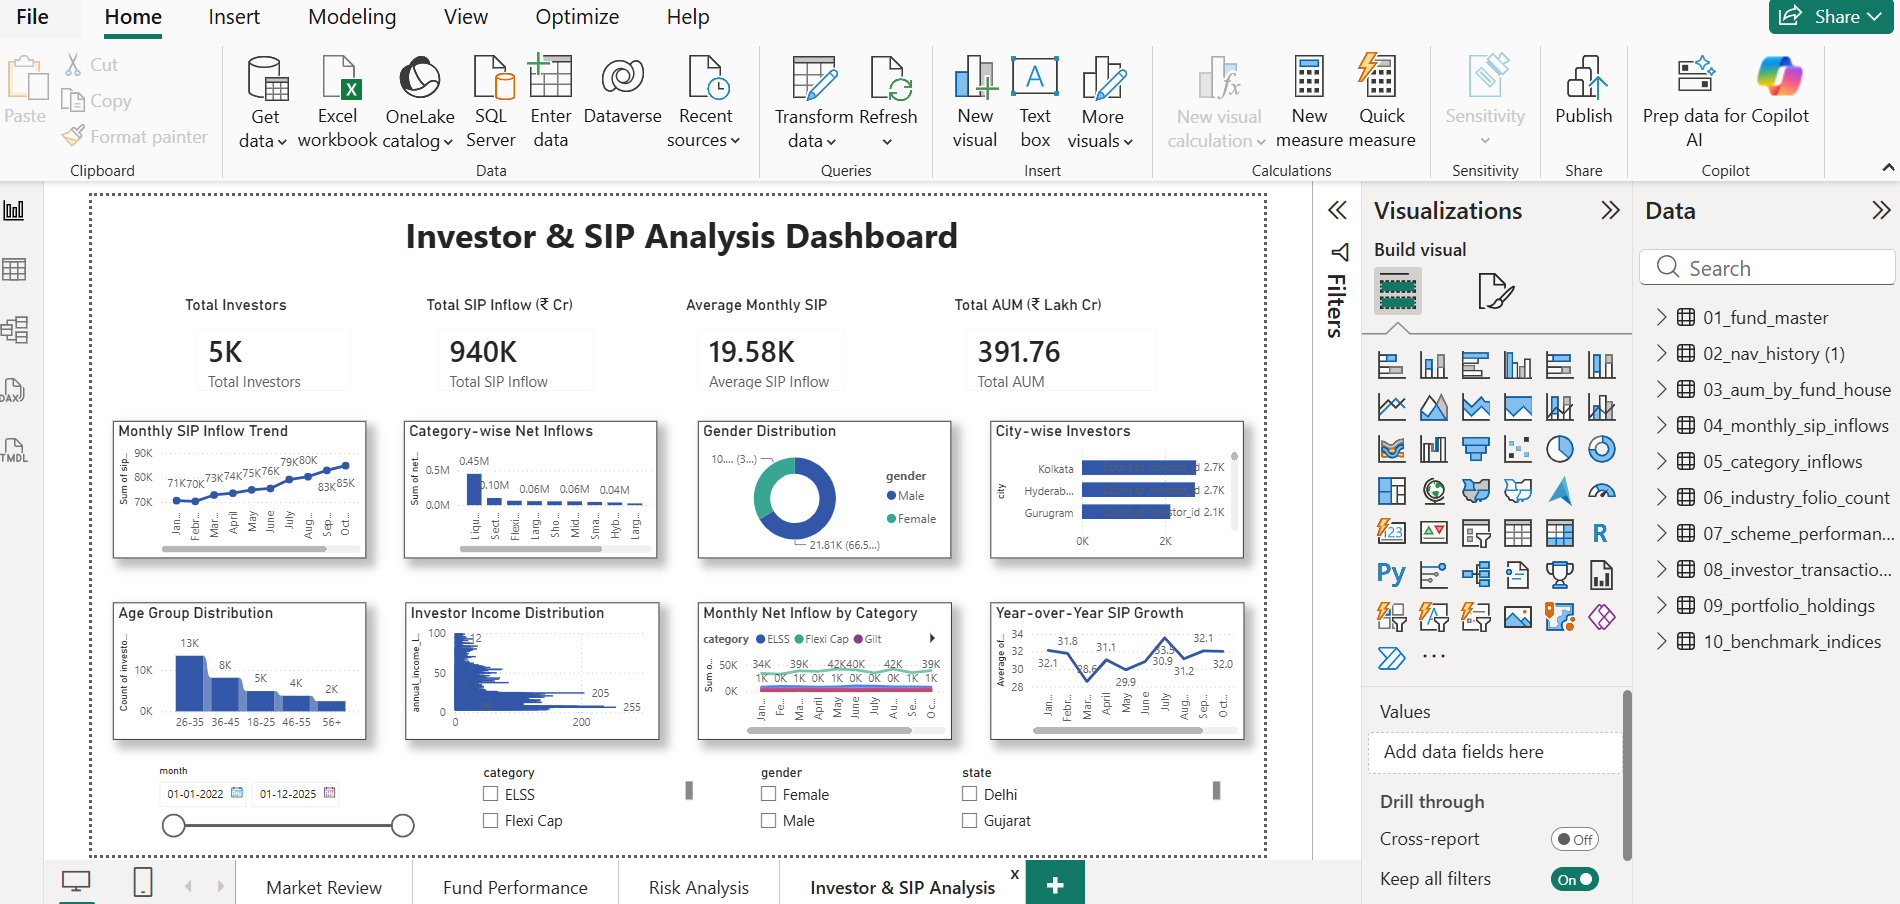

This screenshot's page, from the dashboard's own definition file:
{"tool":"powerbi","page":{"name":"Investor & SIP Analysis","canvas":[1280,720],"ordinal":3},"visuals":[{"type":"textbox","box":[10,11.7,1270,61.7],"z":0},{"type":"cardVisual","title":"Total Investors","fields":{"Data":["08_investor_transactions.Total Investors"]},"box":[96.7,108.3,203.3,121.7],"z":1000},{"type":"cardVisual","title":"Total SIP Inflow (₹ Cr)","fields":{"Data":["04_monthly_sip_inflows.Total SIP Inflow"]},"box":[360,108.3,205,121.7],"z":2000},{"type":"cardVisual","title":"Average Monthly SIP","fields":{"Data":["04_monthly_sip_inflows.Average SIP Inflow"]},"box":[645,108.3,196.7,121.7],"z":3000},{"type":"cardVisual","title":"Total AUM (₹ Lakh Cr)","fields":{"Data":["03_aum_by_fund_house.Total AUM"]},"box":[938.3,108.3,243.3,121.7],"z":4000},{"type":"lineChart","title":"Monthly SIP Inflow Trend","fields":{"Category":["04_monthly_sip_inflows.month.Variation.Date Hierarchy.Month"],"Y":["Sum(04_monthly_sip_inflows.sip_inflow_crore)"]},"box":[23.3,246.7,276.7,150],"z":5000},{"type":"clusteredColumnChart","title":"Category-wise Net Inflows","fields":{"Category":["05_category_inflows.category"],"Y":["Sum(05_category_inflows.net_inflow_crore)"]},"box":[341.7,246.7,276.7,150],"z":6000},{"type":"donutChart","title":"Gender Distribution","fields":{"Y":["CountNonNull(08_investor_transactions.investor_id)"],"Category":["08_investor_transactions.gender"]},"box":[661.7,246.7,276.7,150],"z":7000},{"type":"clusteredBarChart","title":"City-wise Investors","fields":{"Category":["08_investor_transactions.city"],"Y":["CountNonNull(08_investor_transactions.investor_id)"]},"box":[981.7,246.7,276.7,150],"z":8000},{"type":"columnChart","title":"Age Group Distribution","fields":{"Category":["08_investor_transactions.age_group"],"Y":["CountNonNull(08_investor_transactions.investor_id)"]},"box":[23.3,445,276.7,150],"z":9000},{"type":"clusteredBarChart","title":"Investor Income Distribution","fields":{"Y":["CountNonNull(08_investor_transactions.investor_id)"],"Category":["08_investor_transactions.annual_income_lakh"]},"box":[342,445,277,150],"z":10000},{"type":"lineChart","title":"Monthly Net Inflow by Category","fields":{"Category":["05_category_inflows.month.Variation.Date Hierarchy.Month"],"Y":["Sum(05_category_inflows.net_inflow_crore)"],"Series":["05_category_inflows.category"]},"box":[662,445,277,150],"z":11000},{"type":"lineChart","title":"Year-over-Year SIP Growth","fields":{"Y":["Avg(04_monthly_sip_inflows.yoy_growth_pct)"],"Category":["04_monthly_sip_inflows.month.Variation.Date Hierarchy.Month"]},"box":[982,445,277,150],"z":12000},{"type":"slicer","fields":{"Values":["04_monthly_sip_inflows.month"]},"box":[60,616.7,300,103.3],"z":13000},{"type":"slicer","fields":{"Values":["05_category_inflows.category"]},"box":[415,616.7,246.7,88.3],"z":14000},{"type":"slicer","fields":{"Values":["08_investor_transactions.gender"]},"box":[718.3,616.7,195,103.3],"z":15000},{"type":"slicer","fields":{"Values":["08_investor_transactions.state"]},"box":[938.3,616.7,300,81.7],"z":15001}]}

Visuals, with their boxes on the page's 1280x720 design canvas (x1, y1, x2, y2). These are canvas units, not pixel positions in the 1900x904 screenshot, which may show the page scaled, cropped or inside an application window:
textbox: box(10, 12, 1280, 73)
"Total Investors" cardVisual: box(97, 108, 300, 230)
"Total SIP Inflow (₹ Cr)" cardVisual: box(360, 108, 565, 230)
"Average Monthly SIP" cardVisual: box(645, 108, 842, 230)
"Total AUM (₹ Lakh Cr)" cardVisual: box(938, 108, 1182, 230)
"Monthly SIP Inflow Trend" lineChart: box(23, 247, 300, 397)
"Category-wise Net Inflows" clusteredColumnChart: box(342, 247, 618, 397)
"Gender Distribution" donutChart: box(662, 247, 938, 397)
"City-wise Investors" clusteredBarChart: box(982, 247, 1258, 397)
"Age Group Distribution" columnChart: box(23, 445, 300, 595)
"Investor Income Distribution" clusteredBarChart: box(342, 445, 619, 595)
"Monthly Net Inflow by Category" lineChart: box(662, 445, 939, 595)
"Year-over-Year SIP Growth" lineChart: box(982, 445, 1259, 595)
slicer - 04_monthly_sip_inflows.month: box(60, 617, 360, 720)
slicer - 05_category_inflows.category: box(415, 617, 662, 705)
slicer - 08_investor_transactions.gender: box(718, 617, 913, 720)
slicer - 08_investor_transactions.state: box(938, 617, 1238, 698)
